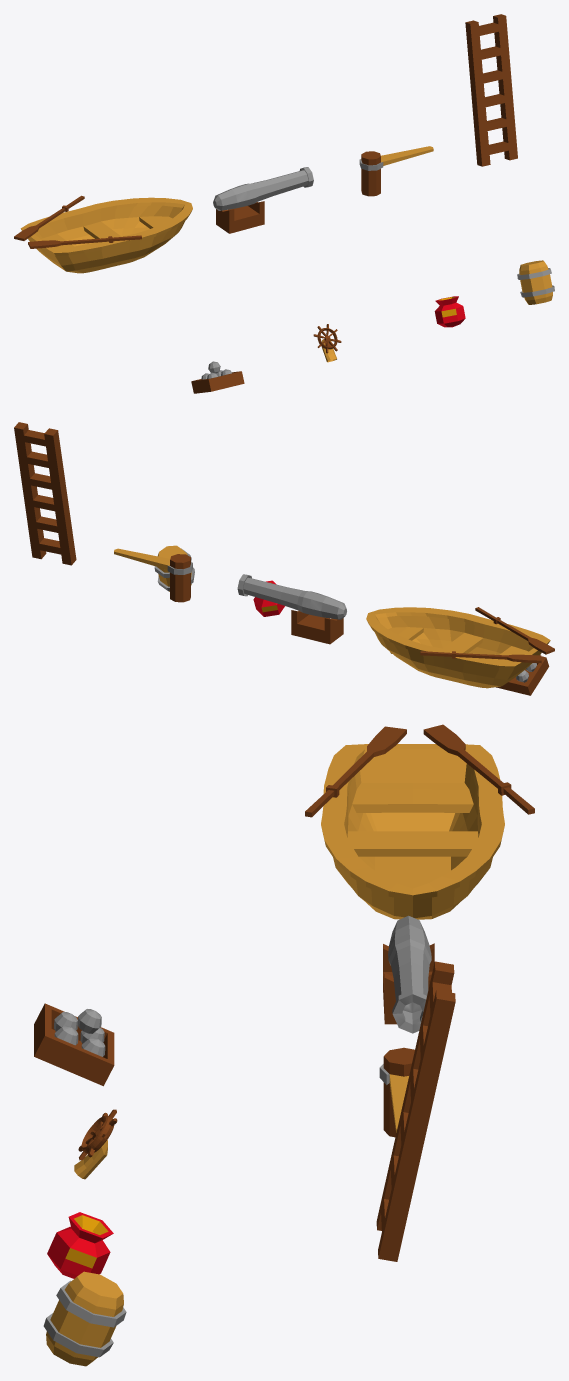
Rendered from misc_01_all.fbx.
3 views of the same model, one above another, from view 1: azimuth 30°, elevation 25°; view 2: azimuth 150°, elevation 25°; view 3: azimuth 270°, elevation 25° (orthographic). The views are drawn at different scales.
Visible parts, largest first — view 1: Boat.007, Ladder.005, Cannon.035, Cylinder.003, Barrel.065, Cannon balls.021, Powder bag.010, Row R.007, Helm support.007, Row L.007; view 2: Boat.007, Ladder.005, Cannon.035, Cylinder.003, Cannon balls.021, Row L.007, Barrel.065, Row R.007, Powder bag.010; view 3: Boat.007, Ladder.005, Barrel.065, Cannon balls.021, Cannon.035, Powder bag.010, Cylinder.003, Row L.007, Row R.007, Helm support.007.
Boxes of the visible parts, x1=… form: Boat.007: x1=20, y1=197, x2=192, y2=273; Ladder.005: x1=465, y1=14, x2=517, y2=166; Cannon.035: x1=213, y1=167, x2=313, y2=233; Cylinder.003: x1=359, y1=146, x2=433, y2=196; Barrel.065: x1=517, y1=260, x2=554, y2=304; Cannon balls.021: x1=191, y1=361, x2=244, y2=393; Powder bag.010: x1=434, y1=296, x2=465, y2=327; Row R.007: x1=28, y1=235, x2=141, y2=248; Helm support.007: x1=313, y1=324, x2=341, y2=362; Row L.007: x1=14, y1=195, x2=84, y2=240; Boat.007: x1=366, y1=607, x2=550, y2=688; Ladder.005: x1=14, y1=422, x2=76, y2=565; Cannon.035: x1=237, y1=574, x2=346, y2=644; Cylinder.003: x1=114, y1=548, x2=192, y2=602; Cannon balls.021: x1=496, y1=656, x2=549, y2=695; Row L.007: x1=420, y1=651, x2=541, y2=663; Barrel.065: x1=154, y1=545, x2=194, y2=591; Row R.007: x1=475, y1=607, x2=554, y2=654; Powder bag.010: x1=253, y1=580, x2=284, y2=616; Boat.007: x1=321, y1=744, x2=504, y2=919; Ladder.005: x1=376, y1=961, x2=455, y2=1261; Barrel.065: x1=43, y1=1271, x2=126, y2=1366; Cannon balls.021: x1=34, y1=1003, x2=114, y2=1086; Cannon.035: x1=383, y1=915, x2=434, y2=1033; Powder bag.010: x1=47, y1=1212, x2=113, y2=1278; Cylinder.003: x1=379, y1=1047, x2=414, y2=1137; Row L.007: x1=423, y1=724, x2=534, y2=814; Row R.007: x1=305, y1=726, x2=406, y2=817; Helm support.007: x1=74, y1=1109, x2=117, y2=1179.
Size of the model in its own units: 2203 by 951 by 974.
